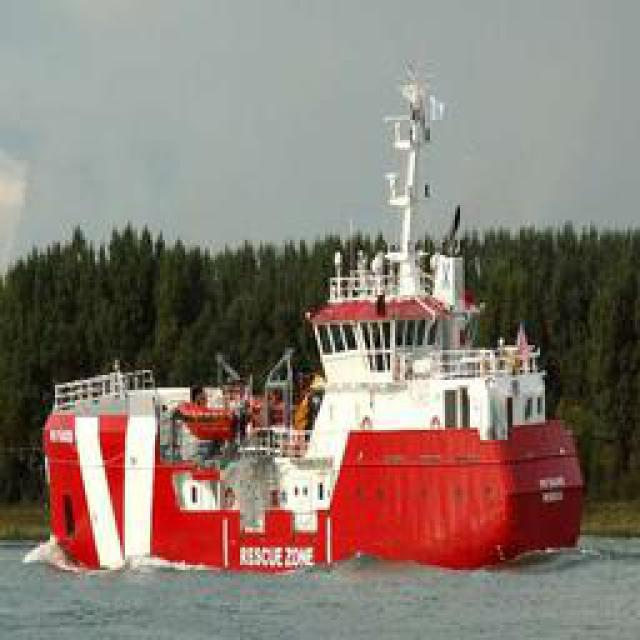Ship: (20, 144, 577, 575)
